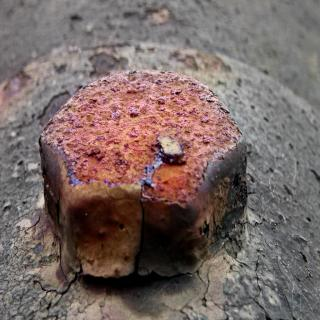Bread: (42, 79, 247, 286)
